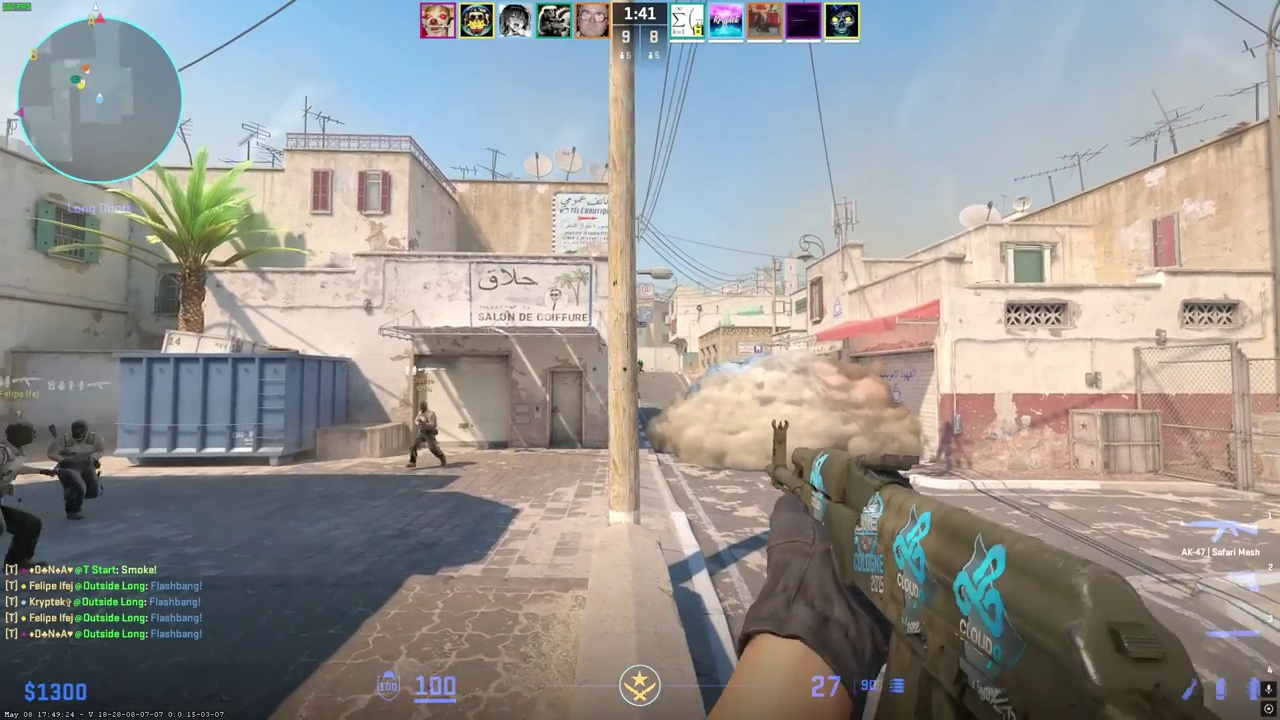Terrorist: (0, 420, 47, 577), (53, 419, 107, 521), (406, 401, 447, 468)
